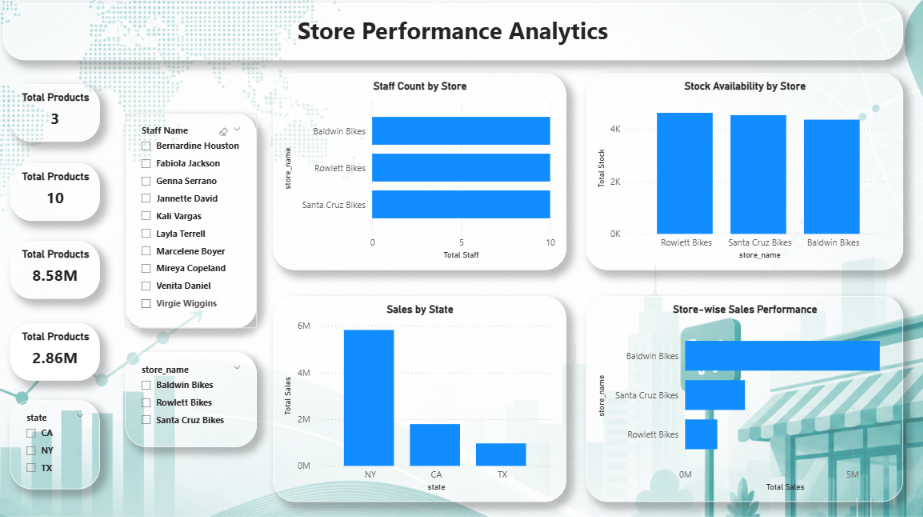

The dashboard page shown, as its layout file describes it:
{"tool":"powerbi","page":{"name":"Store Performance Analytics","canvas":[1280,720],"ordinal":3},"visuals":[{"type":"card","title":"Total Products","fields":{"Values":["brands.Total Stores"]},"box":[19.2,120.8,123.5,79.6],"z":0},{"type":"card","title":"Total Products","fields":{"Values":["brands.Total Staff"]},"box":[19.2,229.2,123.5,79.6],"z":1000},{"type":"card","title":"Total Products","fields":{"Values":["customer_segments.Total Sales"]},"box":[19.2,336.2,123.5,79.6],"z":2000},{"type":"card","title":"Total Products","fields":{"Values":["brands.Average Store Sales"]},"box":[19.2,448.7,123.5,79.6],"z":3000},{"type":"clusteredBarChart","title":"Store-wise Sales Performance","fields":{"Category":["stores.store_name"],"Y":["customer_segments.Total Sales"]},"box":[809.6,411.7,435,282.7],"z":4000},{"type":"columnChart","title":"Sales by State","fields":{"Category":["stores.state"],"Y":["customer_segments.Total Sales"]},"box":[380.1,411.7,402.1,282.7],"z":5000},{"type":"clusteredBarChart","title":"Staff Count by Store","fields":{"Category":["stores.store_name"],"Y":["brands.Total Staff"]},"box":[380.1,105.7,402.1,270.3],"z":6000},{"type":"clusteredColumnChart","title":"Stock Availability by Store","fields":{"Y":["brands.Total Stock"],"Category":["stores.store_name"]},"box":[809.6,105.7,435,270.3],"z":7000},{"type":"slicer","fields":{"Values":["stores.state"]},"box":[19.2,554.4,123.5,122.1],"z":8000},{"type":"slicer","fields":{"Values":["stores.store_name"]},"box":[177,488.5,181.1,130.4],"z":9000},{"type":"slicer","fields":{"Values":["staffs.Staff Name"]},"box":[177,160.5,181.1,295],"z":10000},{"type":"textbox","box":[9.6,9.6,1235,78.2],"z":11000}]}

Visuals, with their boxes in screenshot pixels (x1, y1, x2, y2), scaled from the page's 1280x720 canvas onto the 923x517 screenshot:
"Total Products" card: locate(14, 87, 103, 144)
"Total Products" card: locate(14, 165, 103, 222)
"Total Products" card: locate(14, 241, 103, 299)
"Total Products" card: locate(14, 322, 103, 379)
"Store-wise Sales Performance" clusteredBarChart: locate(584, 296, 897, 499)
"Sales by State" columnChart: locate(274, 296, 564, 499)
"Staff Count by Store" clusteredBarChart: locate(274, 76, 564, 270)
"Stock Availability by Store" clusteredColumnChart: locate(584, 76, 897, 270)
slicer - stores.state: locate(14, 398, 103, 486)
slicer - stores.store_name: locate(128, 351, 258, 444)
slicer - staffs.Staff Name: locate(128, 115, 258, 327)
textbox: locate(7, 7, 897, 63)
